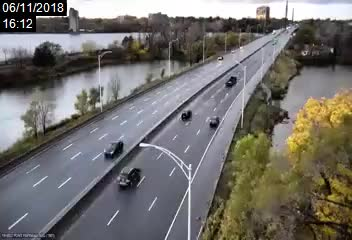personal_car: (117, 164, 141, 190), (104, 139, 123, 160), (207, 113, 222, 128), (180, 106, 193, 122), (224, 75, 238, 87)
